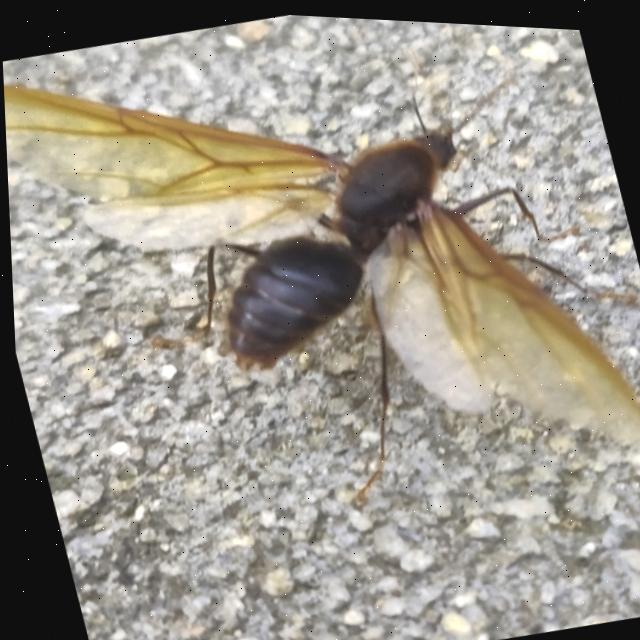Alive-Male-Alate: (0, 0, 640, 577)
